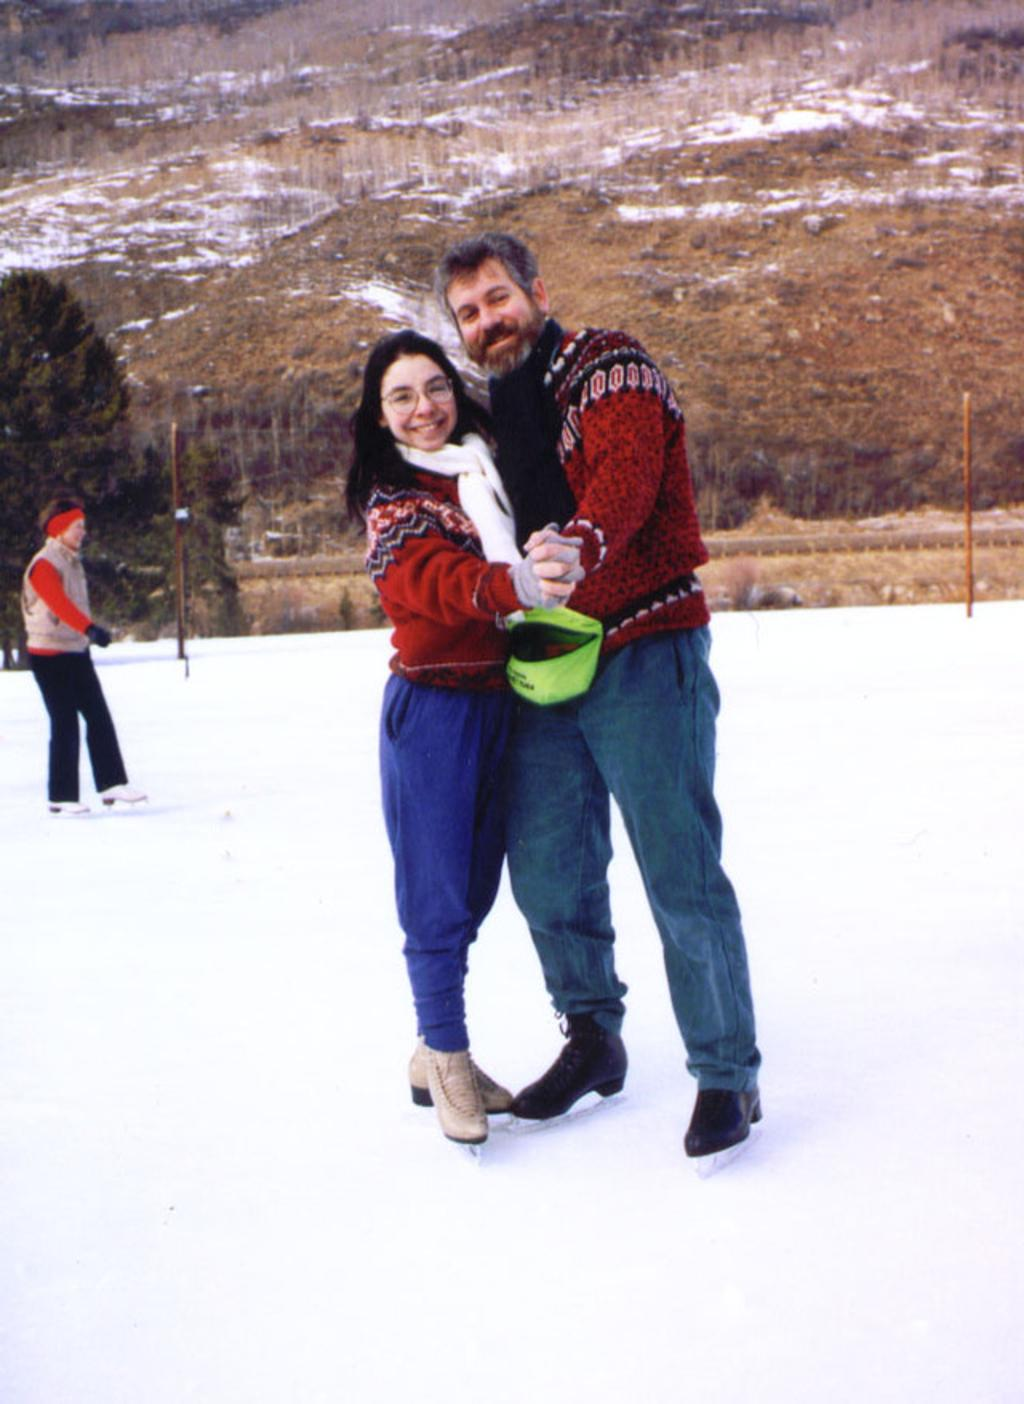face: (446, 259, 540, 373), (380, 353, 457, 451), (65, 517, 86, 549)
